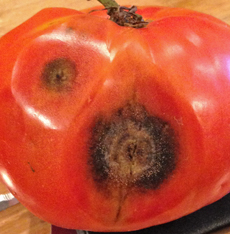anthracnose: (43, 37, 204, 200)
